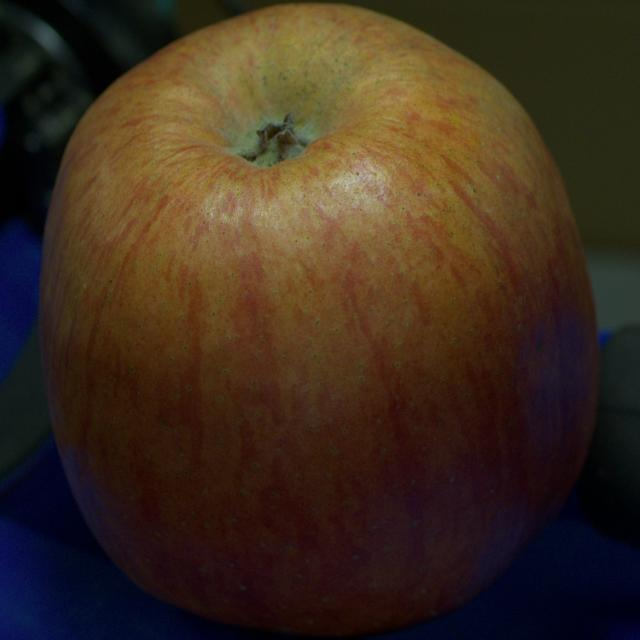apple: (40, 4, 599, 636)
